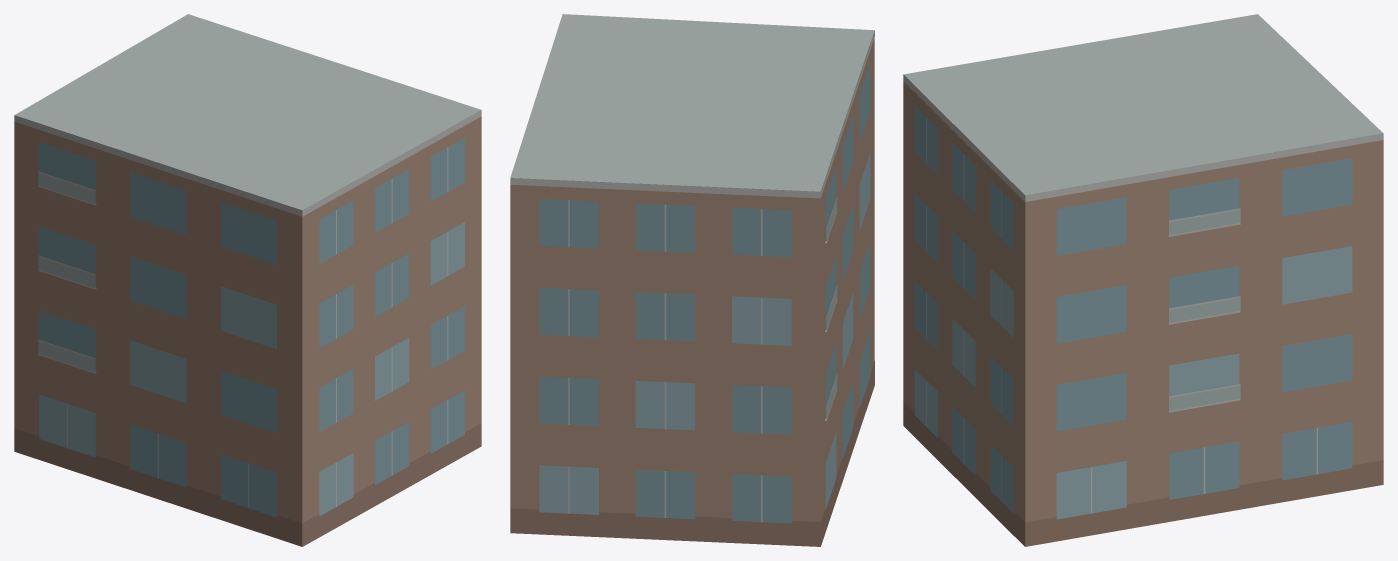
File: survey-upis-33021538.glb
3 renders of one model, left to right at view 1: azimuth 30°, elevation 25°; view 2: azimuth 150°, elevation 25°; view 3: azimuth 270°, elevation 25°, orthographic. The views are drawn at different scales.
Parts seen in each view (by area): view 1: survey-upis-33021538.tmp; view 2: survey-upis-33021538.tmp; view 3: survey-upis-33021538.tmp.
Boxes of the visible parts, left/top/right/bottom form: survey-upis-33021538.tmp: left=14, top=14, right=481, bottom=546; survey-upis-33021538.tmp: left=510, top=14, right=874, bottom=546; survey-upis-33021538.tmp: left=903, top=14, right=1383, bottom=546.
Bounding box in the file's own units: 14.18 × 12.8 × 15.86.
